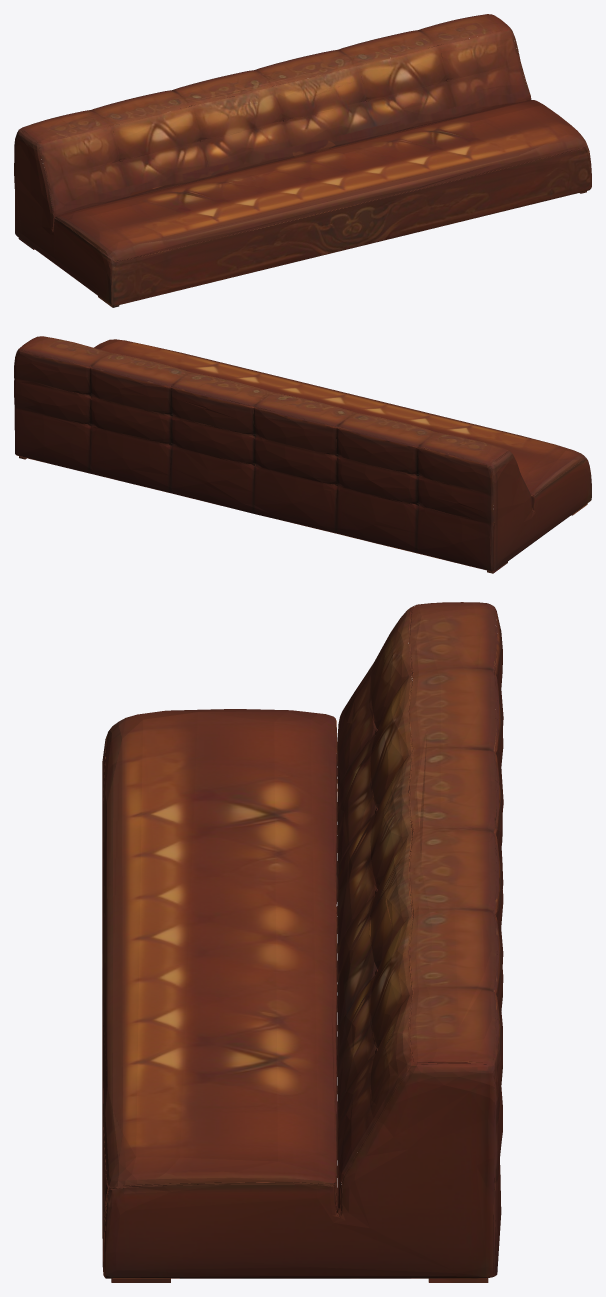
File: edited_mesh.glb
The picture shows the model from 3 angles, top to bottom: view 1: azimuth 30°, elevation 25°; view 2: azimuth 150°, elevation 25°; view 3: azimuth 270°, elevation 25°; orthographic projection. The views are drawn at different scales.
Visible parts, largest first — view 1: solid_001_wire; view 2: solid_001_wire; view 3: solid_001_wire.
Boxes of the visible parts, <box> form: solid_001_wire: <box>14,14,591,307</box>; solid_001_wire: <box>14,336,591,573</box>; solid_001_wire: <box>102,602,503,1282</box>.
Bounding box in the file's own units: 2 × 0.4446 × 0.7213.
Materials: 1 (1 with a texture image).
